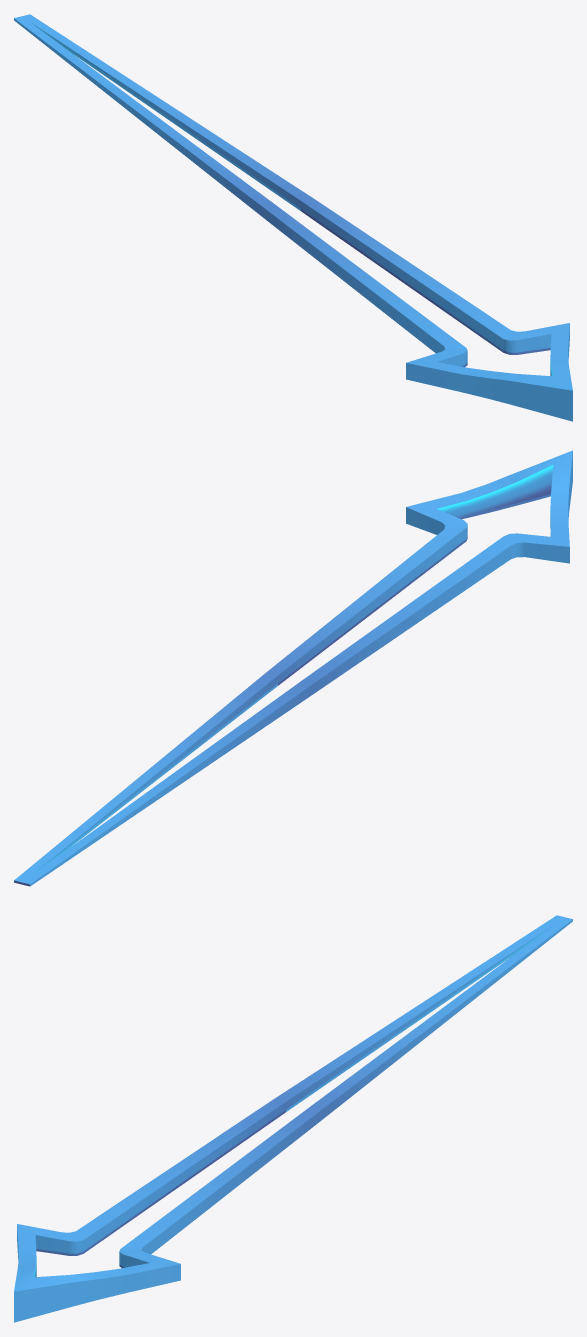
File: control.direction.gltf
The picture shows the model from 3 angles, top to bottom: view 1: azimuth 30°, elevation 25°; view 2: azimuth 150°, elevation 25°; view 3: azimuth 330°, elevation 25°; orthographic projection.
Parts seen in each view (by area): view 1: dir; view 2: dir; view 3: dir.
Boxes of the visible parts, left/top/right/bottom form: dir: left=14, top=14, right=572, bottom=421; dir: left=14, top=450, right=572, bottom=886; dir: left=14, top=915, right=572, bottom=1322.
Size of the model in its own units: 0.3543 by 0.064 by 2.06.
Materials: 1 (1 with a texture image).
